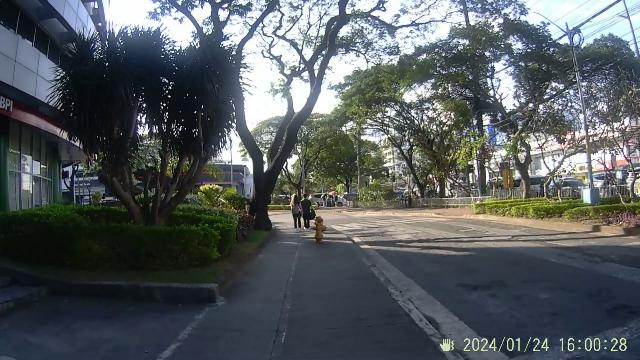tree: (228, 21, 300, 236)
